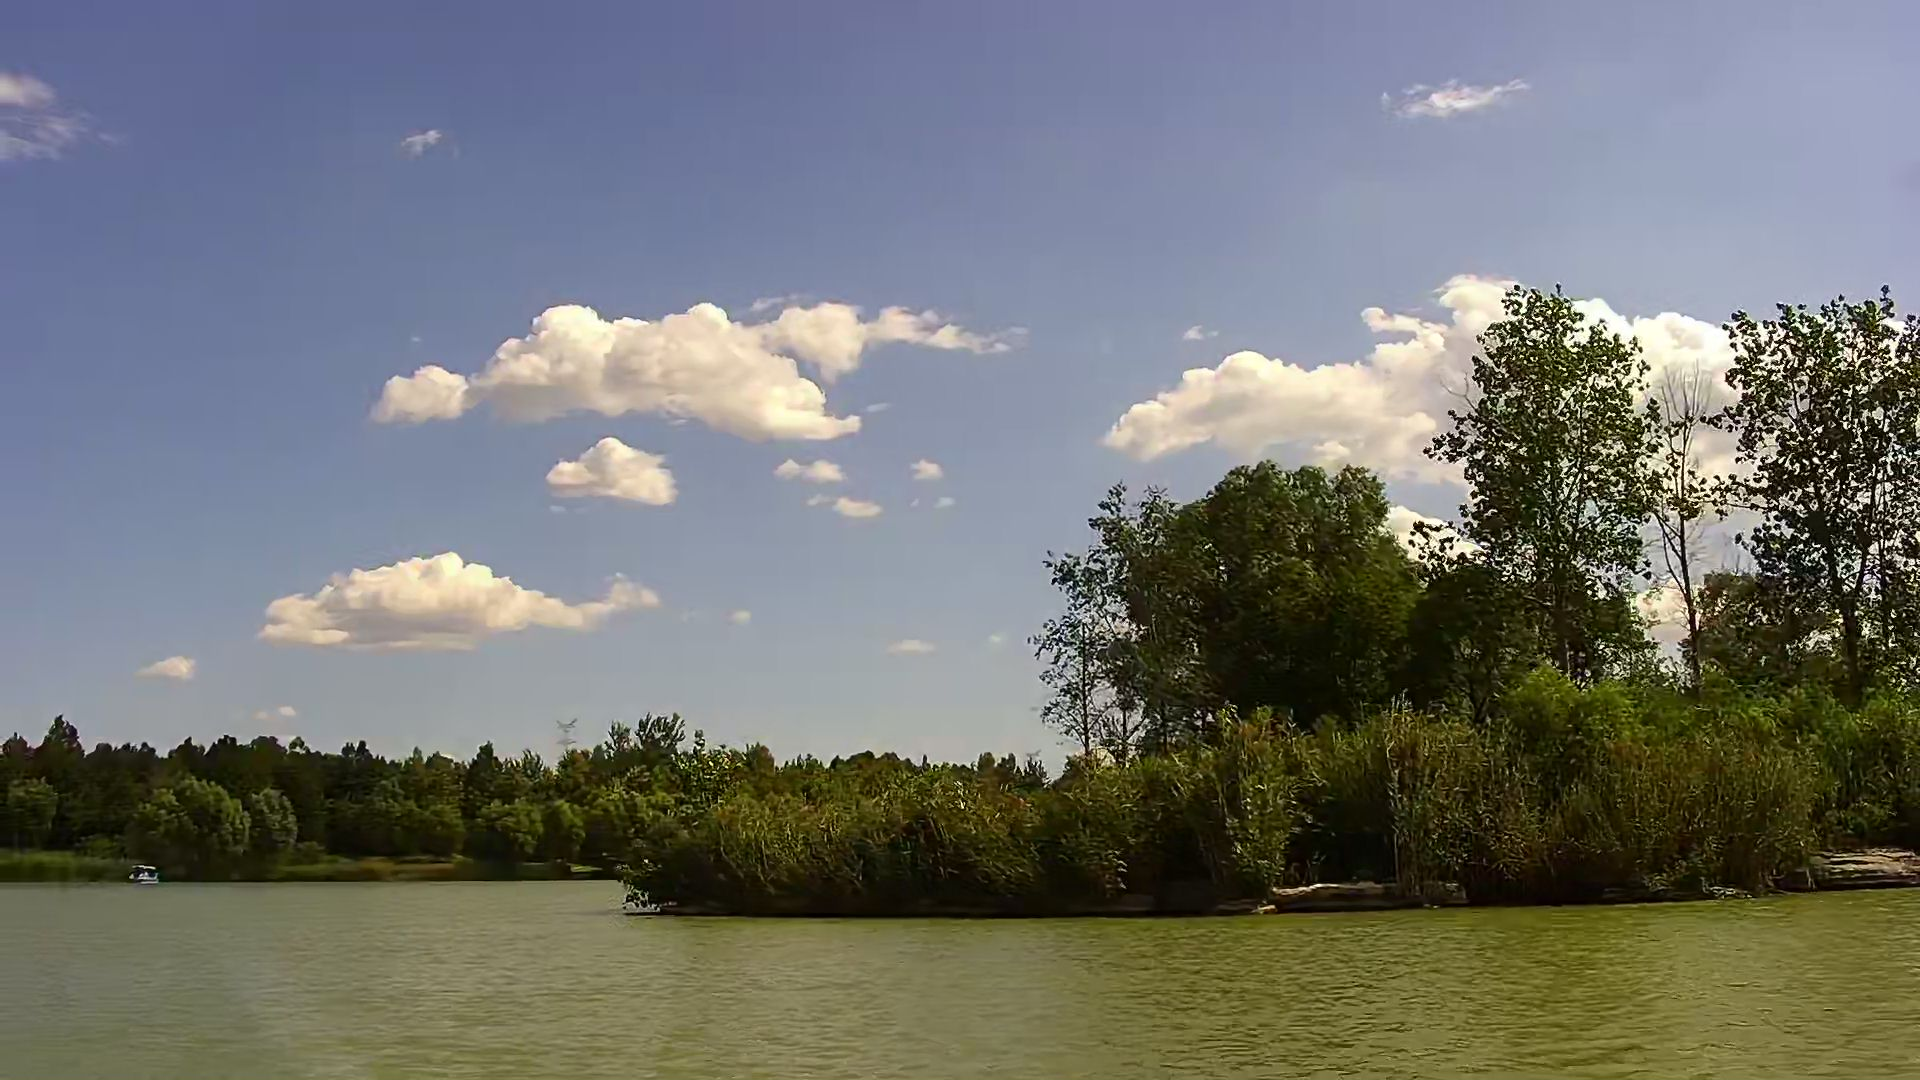boat: (127, 858, 156, 886)
rock: (1261, 874, 1460, 913), (1784, 835, 1920, 887)
